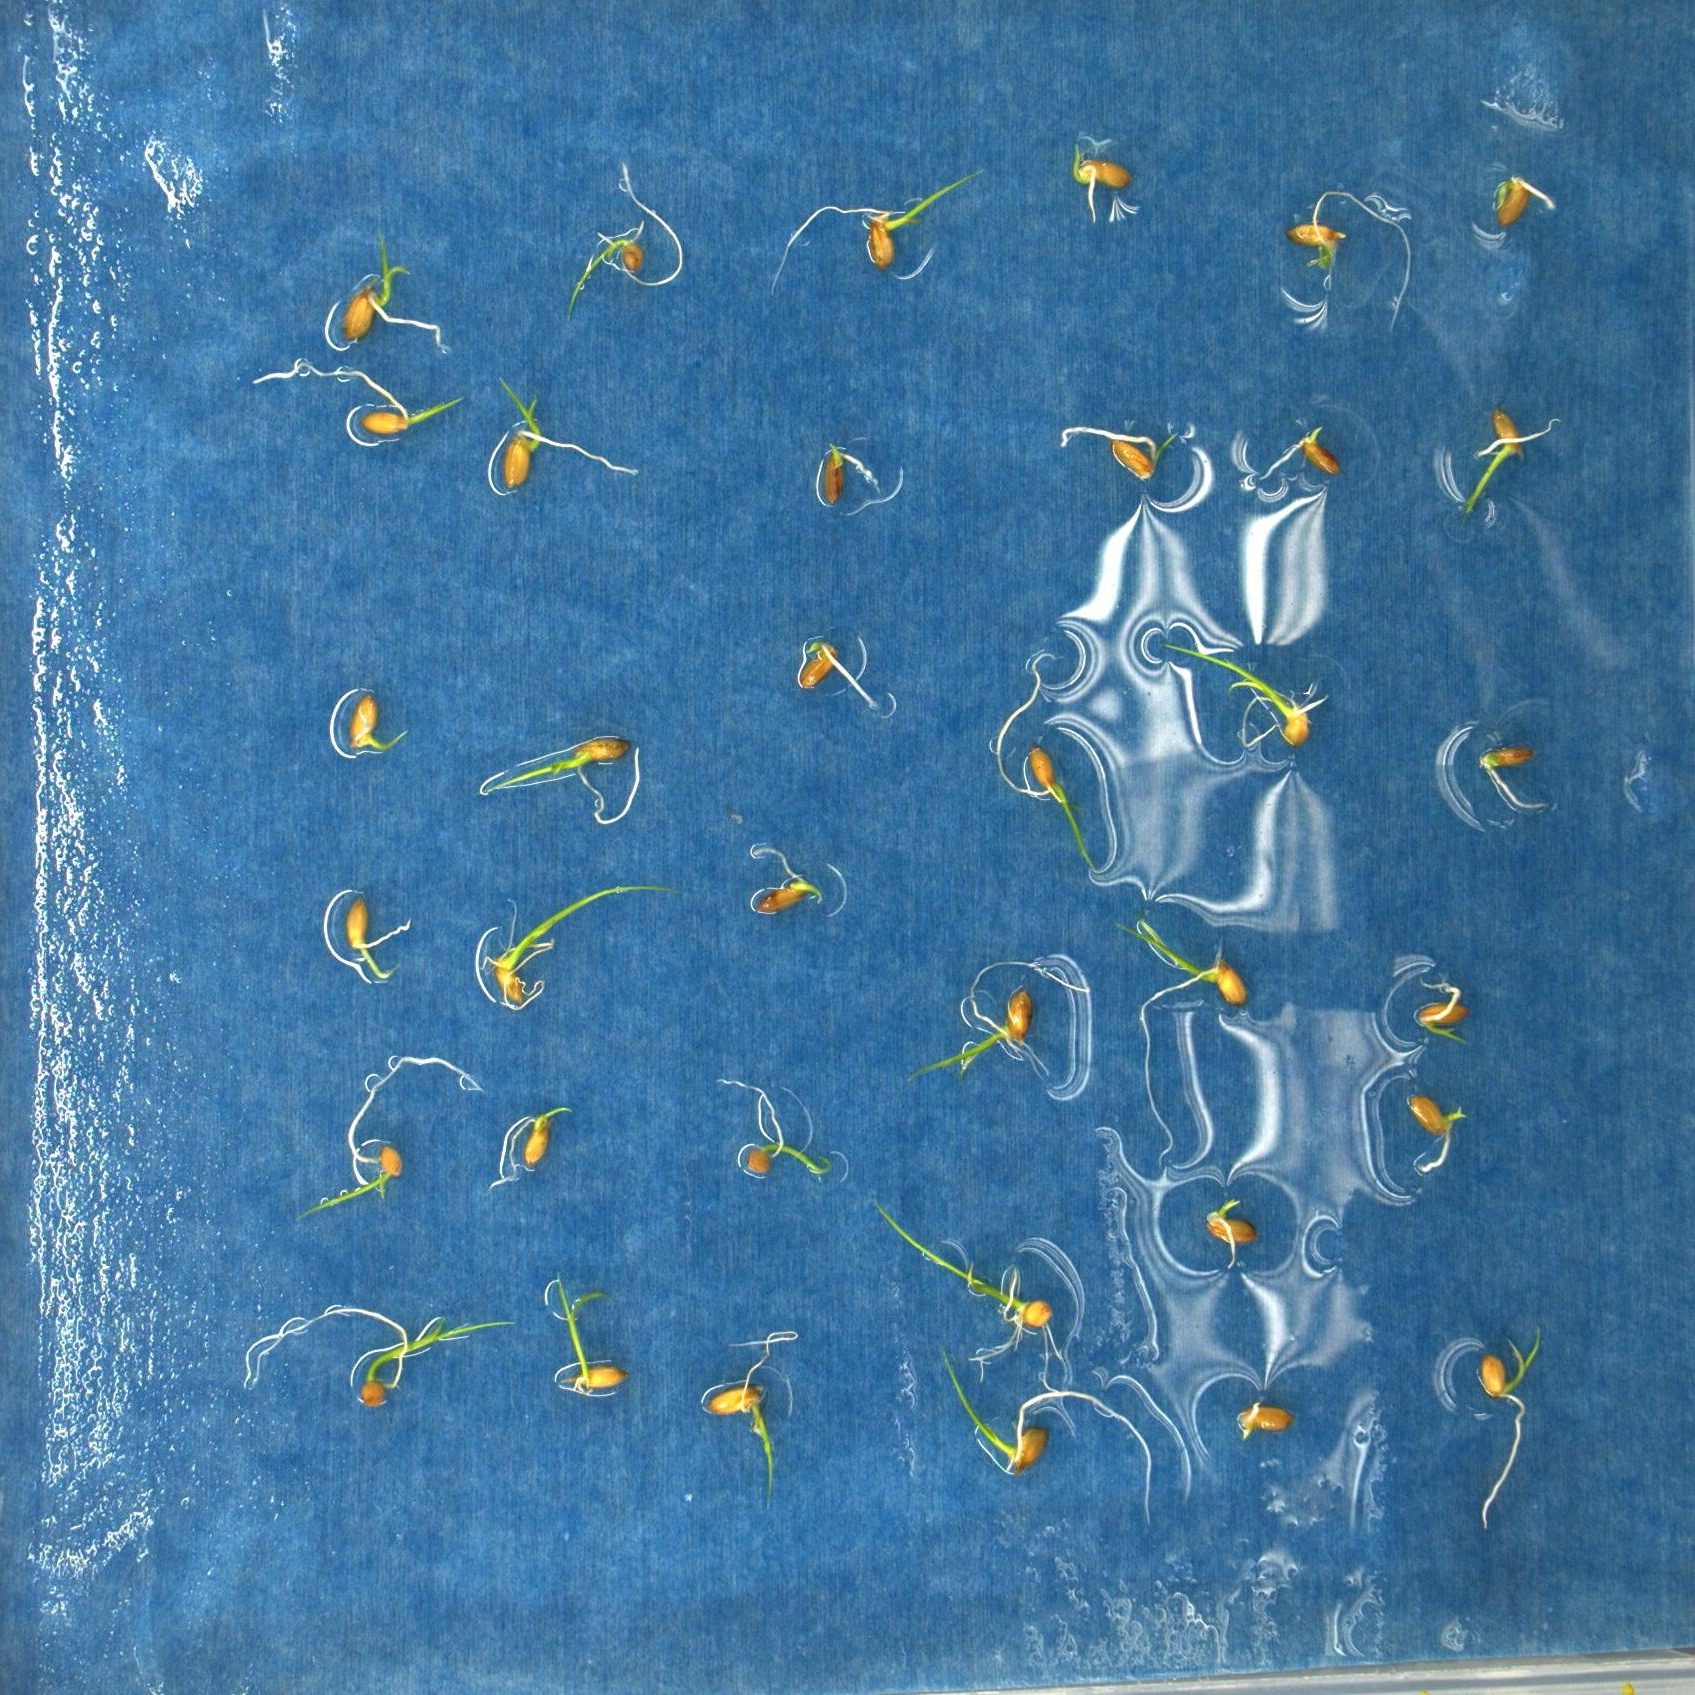not sprout: (793, 638, 886, 712), (1256, 416, 1340, 498), (1406, 1090, 1478, 1173), (1465, 750, 1549, 816), (802, 442, 879, 511), (1225, 1388, 1295, 1451), (1487, 169, 1557, 230), (1205, 1205, 1263, 1270)
sprout: (924, 1329, 1139, 1558), (838, 1192, 1090, 1383), (984, 646, 1138, 913), (258, 1048, 486, 1222), (244, 1287, 557, 1412), (480, 834, 666, 1040), (761, 152, 1006, 300), (683, 1307, 834, 1534), (860, 958, 1077, 1104), (1132, 914, 1260, 1156), (1277, 174, 1406, 369), (494, 365, 663, 501), (557, 154, 692, 321), (453, 733, 661, 838), (1156, 638, 1312, 771), (1458, 1326, 1551, 1532), (262, 362, 458, 459), (705, 1060, 847, 1194), (341, 225, 445, 362), (1447, 400, 1541, 545), (542, 1270, 632, 1409), (1049, 416, 1209, 487), (1051, 137, 1138, 224), (1402, 951, 1487, 1040), (489, 1104, 573, 1183), (331, 681, 404, 768), (337, 899, 399, 997), (747, 841, 820, 920)
